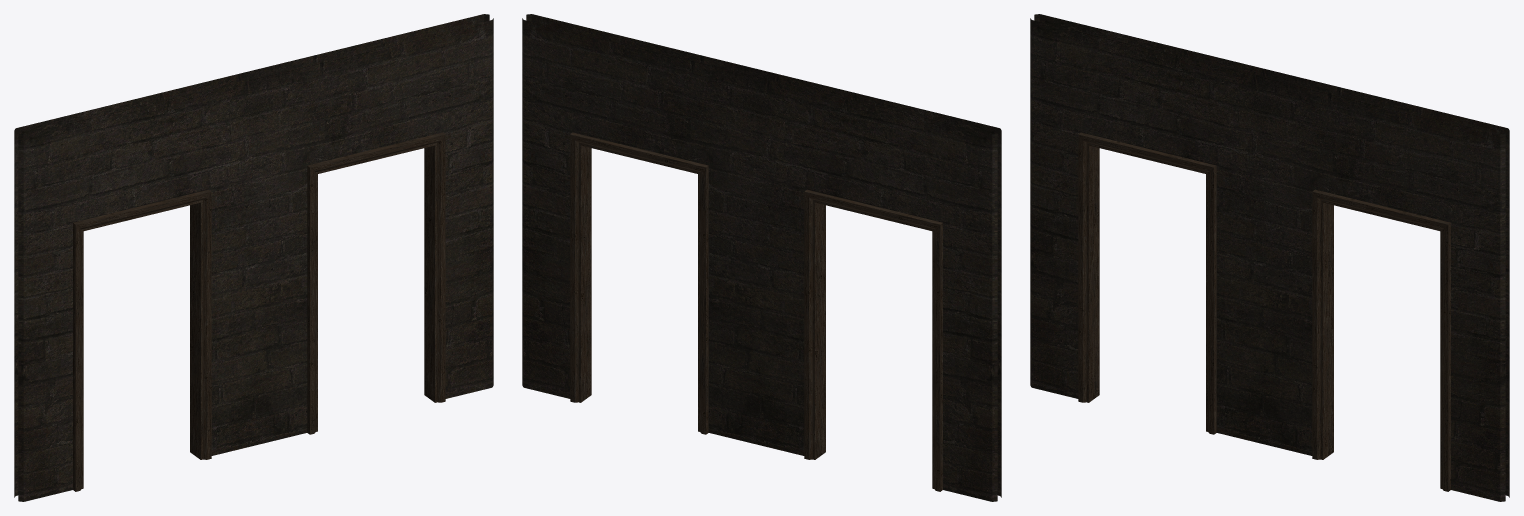
The model's file is double_single_doorway_3.glb.
3 renders of one model, left to right at view 1: azimuth 30°, elevation 25°; view 2: azimuth 150°, elevation 25°; view 3: azimuth 330°, elevation 25°, orthographic.
Parts seen in each view (by area): view 1: double_single_doorway_3; view 2: double_single_doorway_3; view 3: double_single_doorway_3.
Boxes of the visible parts, x1,y1,x2,y2 form: double_single_doorway_3: (14, 14, 493, 501); double_single_doorway_3: (522, 14, 1001, 501); double_single_doorway_3: (1030, 14, 1509, 501).
Bounding box in the file's own units: 4.06 × 3 × 0.2.
2 materials, 2 textured.
